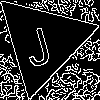J: (18, 16, 55, 68)
